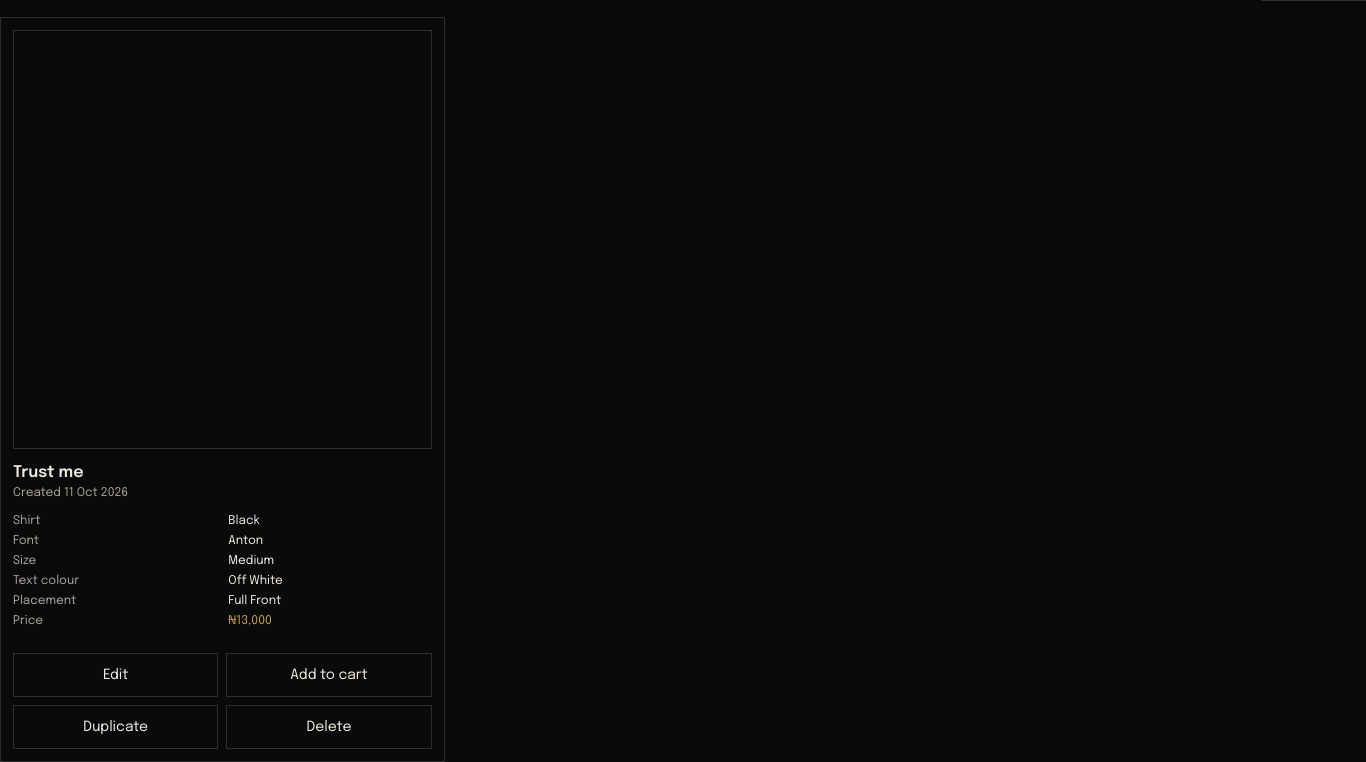
DesignGallery › duplicates a design and shows the copy
(page scrolled)
Click the button with aria-label "Duplicate Trust me": (116,727) [13,705,218,749]
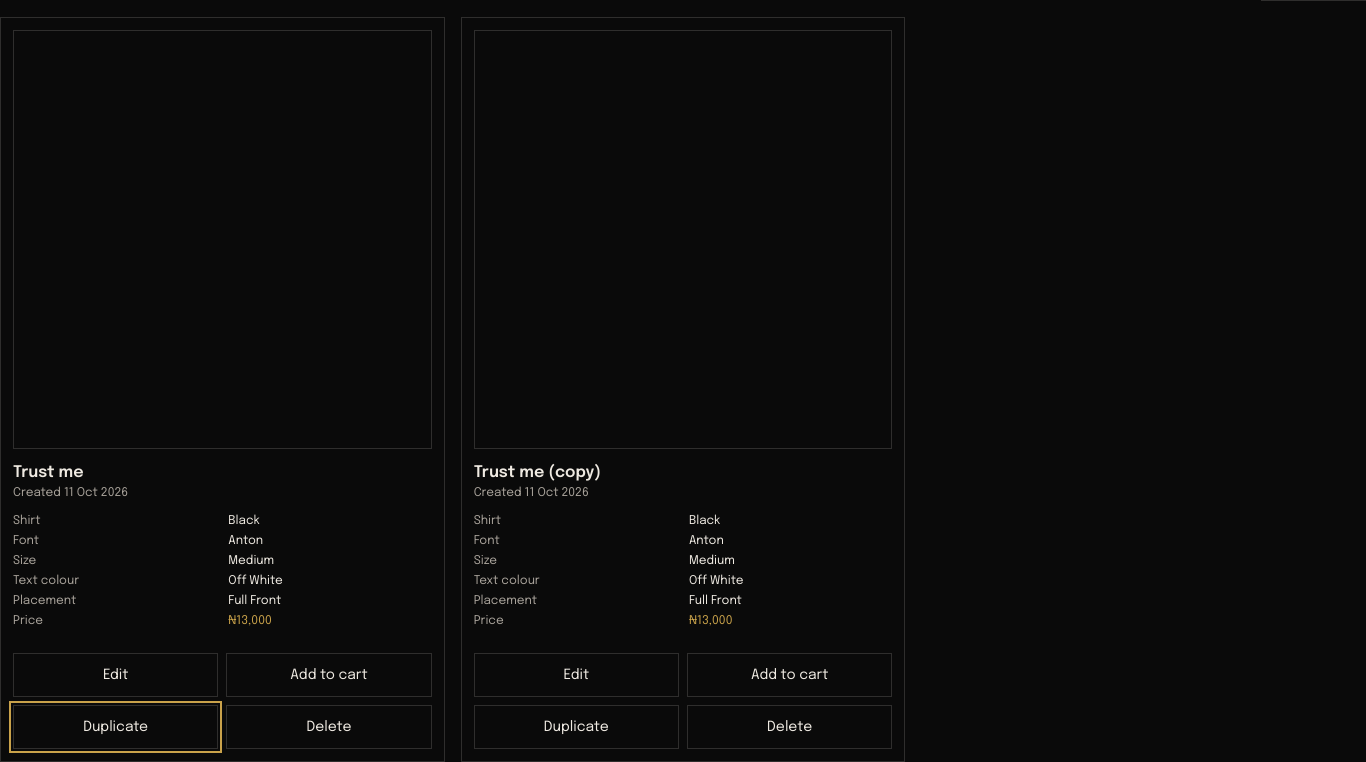
Expected: the heading "Trust me (copy)" is shown, [474,464,601,481]
